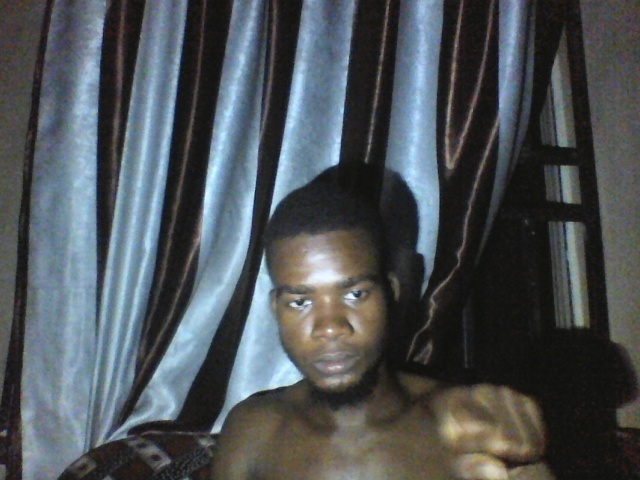yes: (417, 375, 558, 475)
